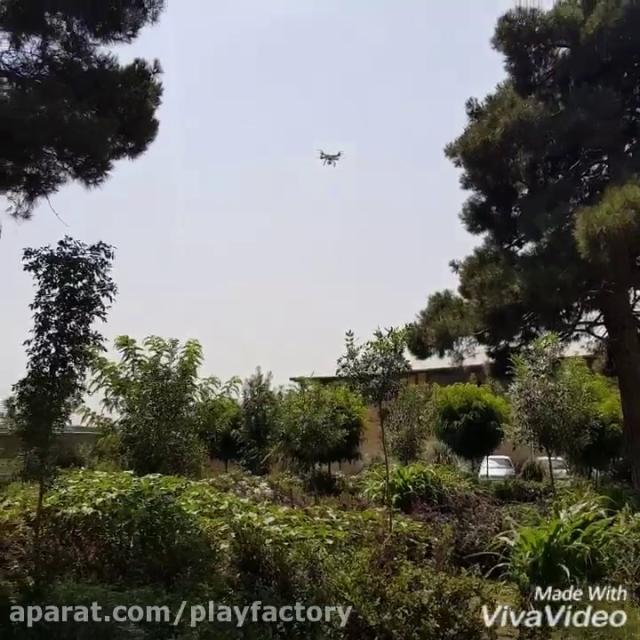drone: (311, 142, 349, 172)
